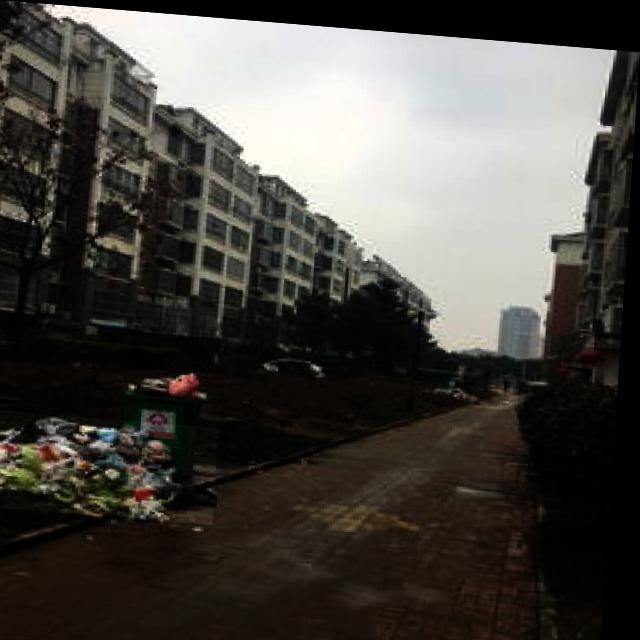garbage: (0, 408, 225, 521)
overflow: (115, 360, 208, 474)
